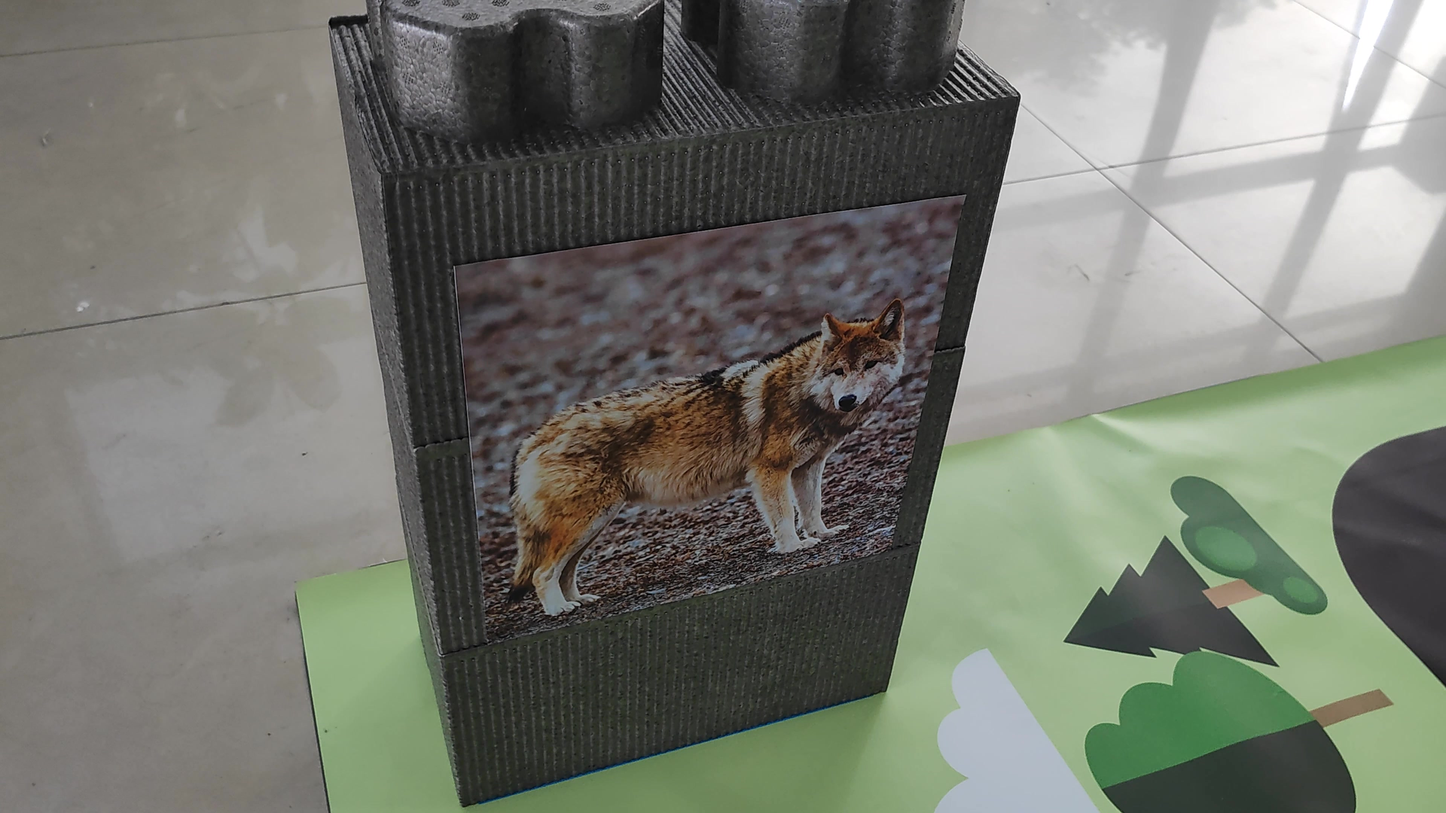wolf: (478, 288, 932, 614)
